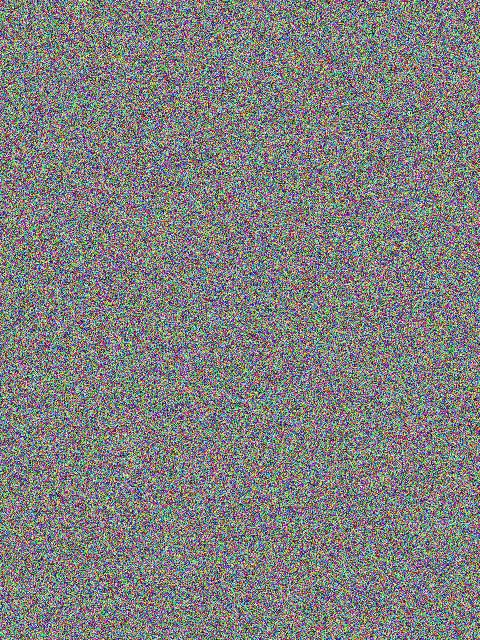chair: (70, 170, 131, 225)
diningtable: (247, 330, 316, 423)
person: (190, 161, 290, 247)
